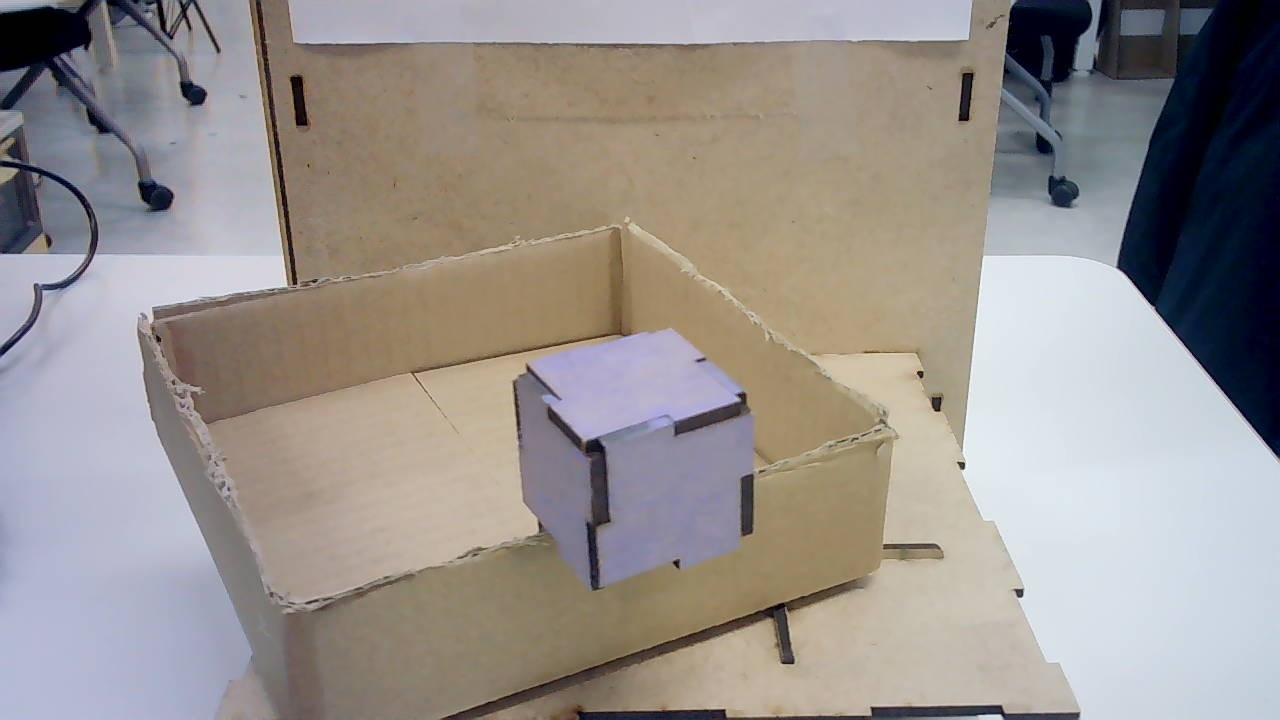pulple box: (516, 328, 761, 590)
